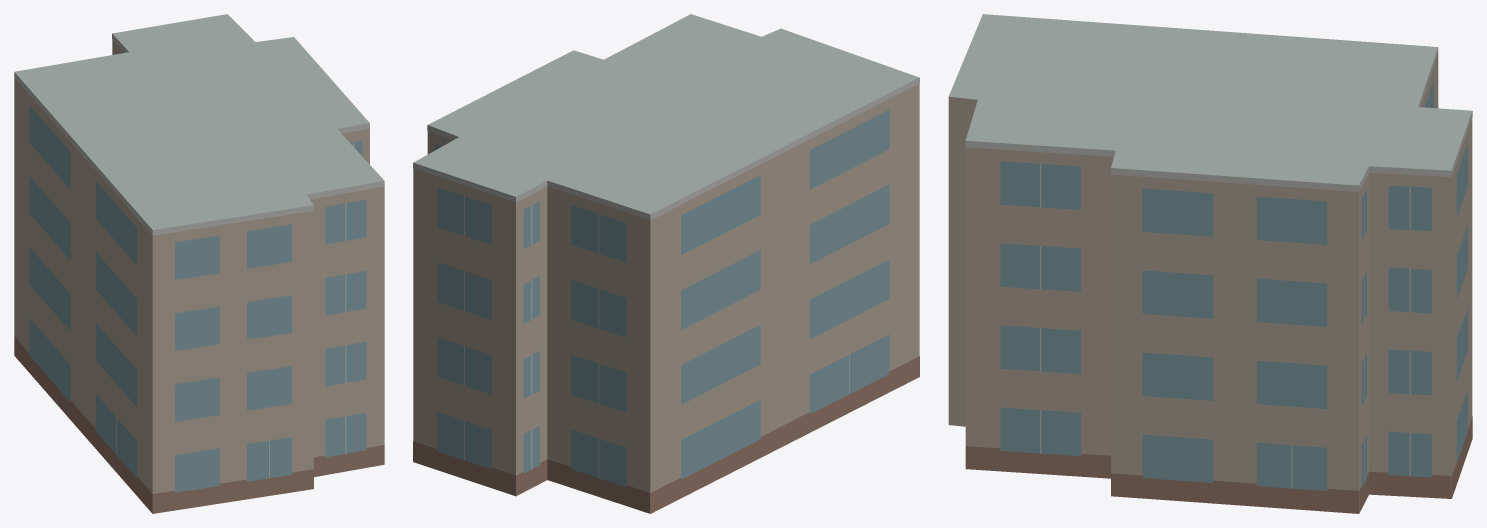
Rendered from survey-upis-32624790.glb.
The picture shows the model from 3 angles, left to right: view 1: azimuth 30°, elevation 25°; view 2: azimuth 150°, elevation 25°; view 3: azimuth 270°, elevation 25°; orthographic projection. The views are drawn at different scales.
Parts seen in each view (by area): view 1: survey-upis-32624790.tmp; view 2: survey-upis-32624790.tmp; view 3: survey-upis-32624790.tmp.
Part boxes in pixels (box(x1,y1,x2,y2)): survey-upis-32624790.tmp: box(14, 14, 384, 513); survey-upis-32624790.tmp: box(413, 14, 919, 513); survey-upis-32624790.tmp: box(948, 14, 1472, 513).
Size of the model in its own units: 13.91 by 12.4 by 17.94.
